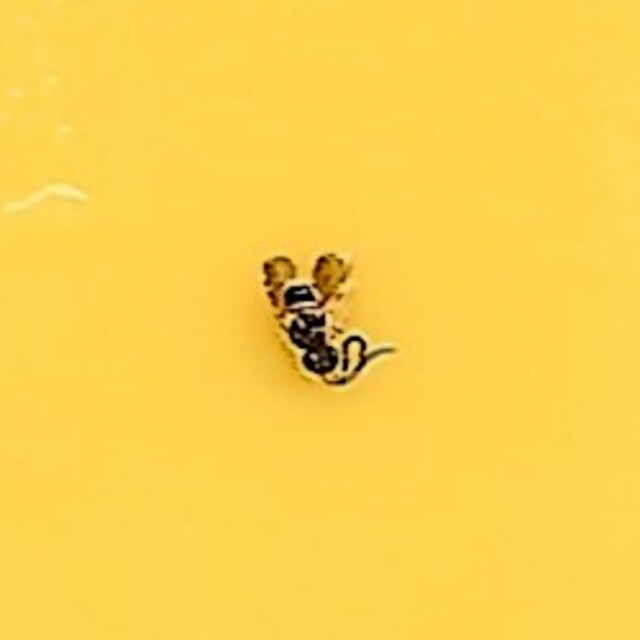Hymenoptera: (256, 249, 384, 391)
